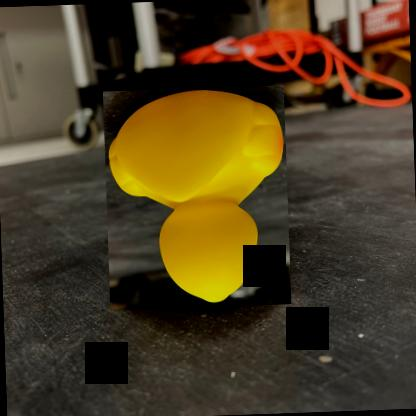duck: (102, 86, 292, 310)
